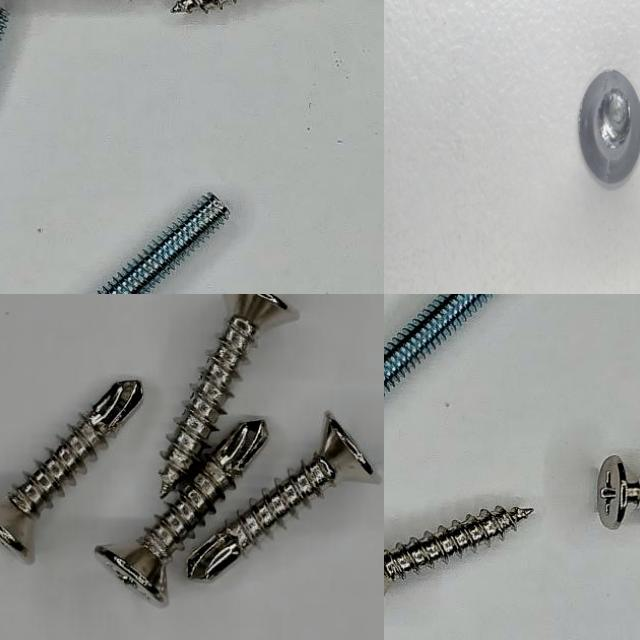Screw: (189, 412, 381, 580), (95, 420, 268, 604), (161, 294, 300, 498), (0, 380, 143, 563), (384, 506, 534, 599), (95, 194, 229, 294), (384, 294, 493, 395), (580, 69, 640, 183), (598, 455, 640, 529)
